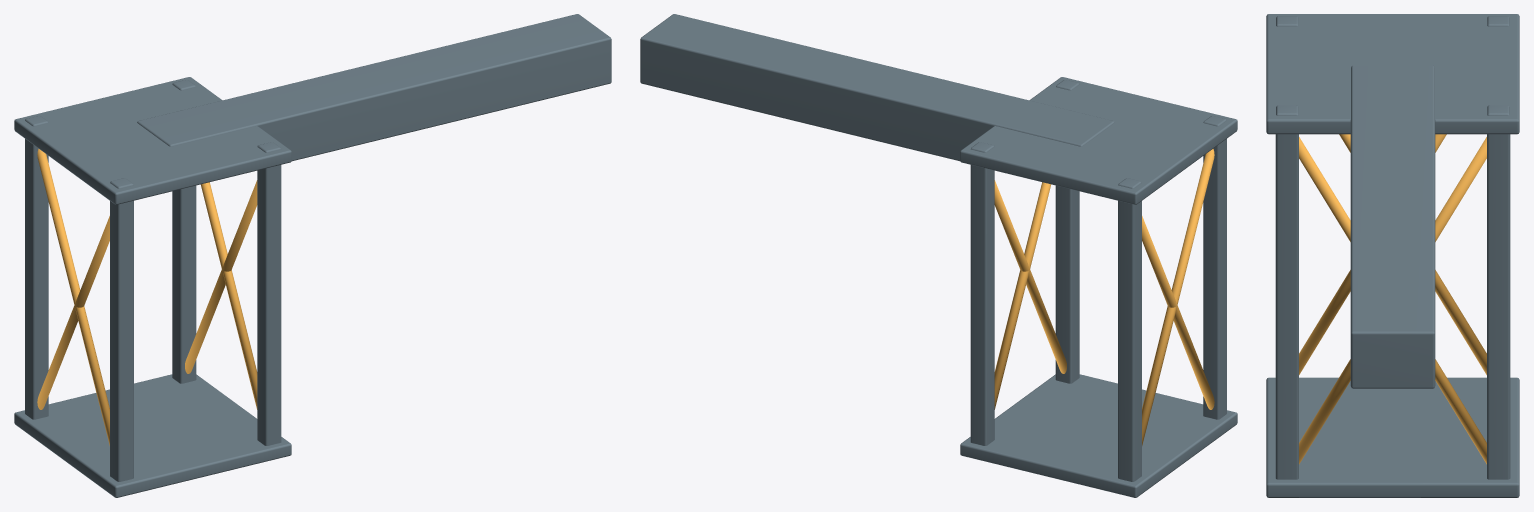
The model's file is SM_FE_TowerArm.fbx.
3 renders of one model, left to right at view 1: azimuth 30°, elevation 25°; view 2: azimuth 150°, elevation 25°; view 3: azimuth 270°, elevation 25°, orthographic. The views are drawn at different scales.
Visible parts, largest first — view 1: SM_FE_TowerArm; view 2: SM_FE_TowerArm; view 3: SM_FE_TowerArm.
Part boxes in pixels (left/top/right/bottom): SM_FE_TowerArm: left=14, top=14, right=611, bottom=497; SM_FE_TowerArm: left=640, top=14, right=1237, bottom=497; SM_FE_TowerArm: left=1266, top=14, right=1519, bottom=497.
Size of the model in its own units: 720 by 240 by 400.
